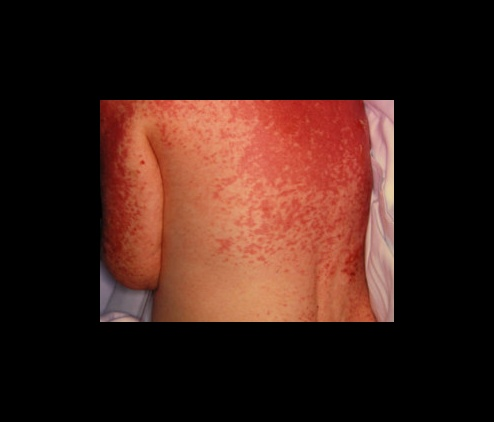SJS-TEN: (99, 97, 380, 323)
